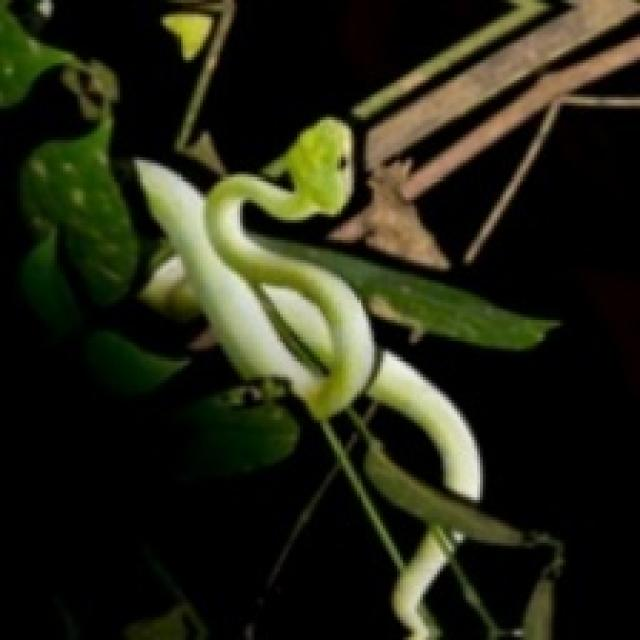north ph temple pitviper: (134, 117, 480, 500), (391, 491, 460, 637)
